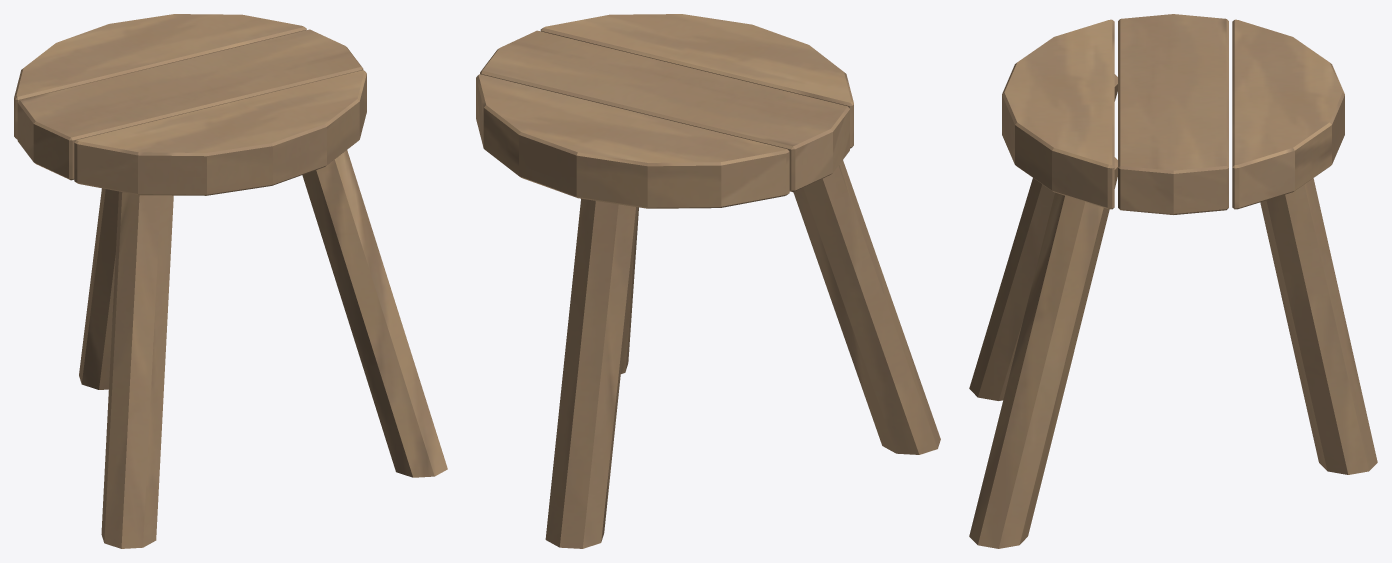
Rendered from F01_three_leg_stool.fbx.
3 views of the same model, side by side, from view 1: azimuth 30°, elevation 25°; view 2: azimuth 150°, elevation 25°; view 3: azimuth 270°, elevation 25° (orthographic). The views are drawn at different scales.
Parts seen in each view (by area): view 1: F01_Three-legstool; view 2: F01_Three-legstool; view 3: F01_Three-legstool.
Part boxes in pixels (box(x1,y1,x2,y2)): F01_Three-legstool: box(14, 14, 447, 548); F01_Three-legstool: box(476, 14, 940, 548); F01_Three-legstool: box(969, 14, 1377, 548).
Bounding box in the file's own units: 0.5 × 0.5 × 0.5.
